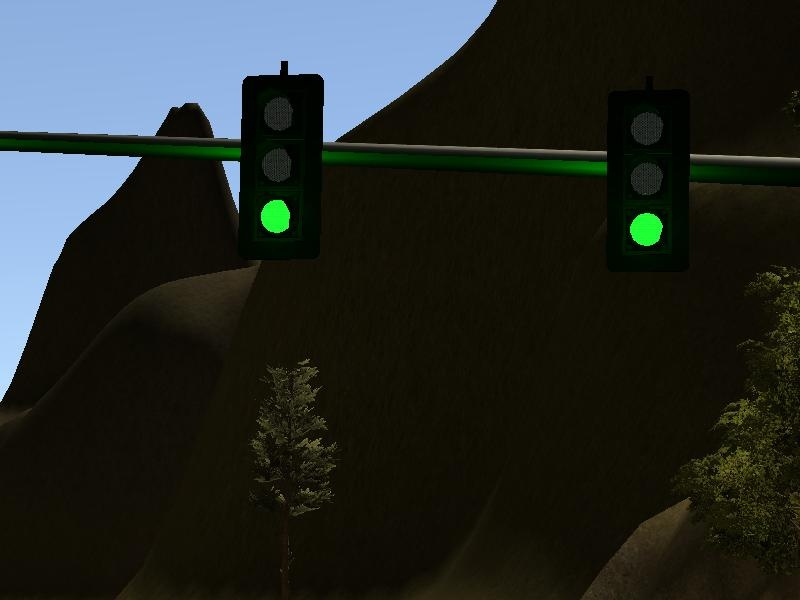Green: (608, 89, 690, 275), (240, 74, 321, 261)
